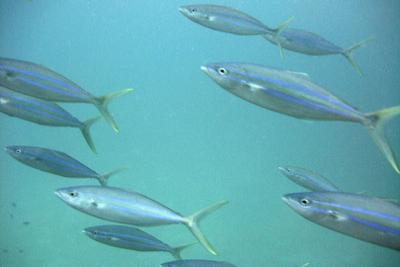Carangidae -Jacks-: (200, 54, 400, 176), (51, 179, 230, 255), (273, 187, 400, 255), (3, 139, 127, 191)
